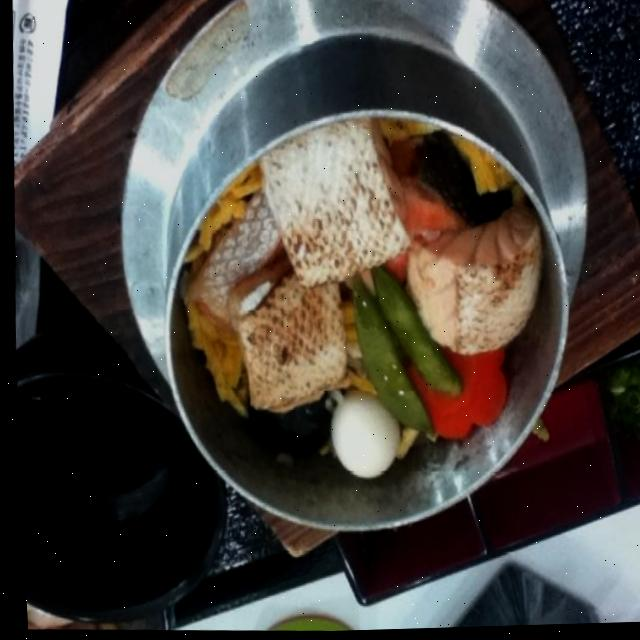牛肉菜式: (0, 0, 595, 640)
